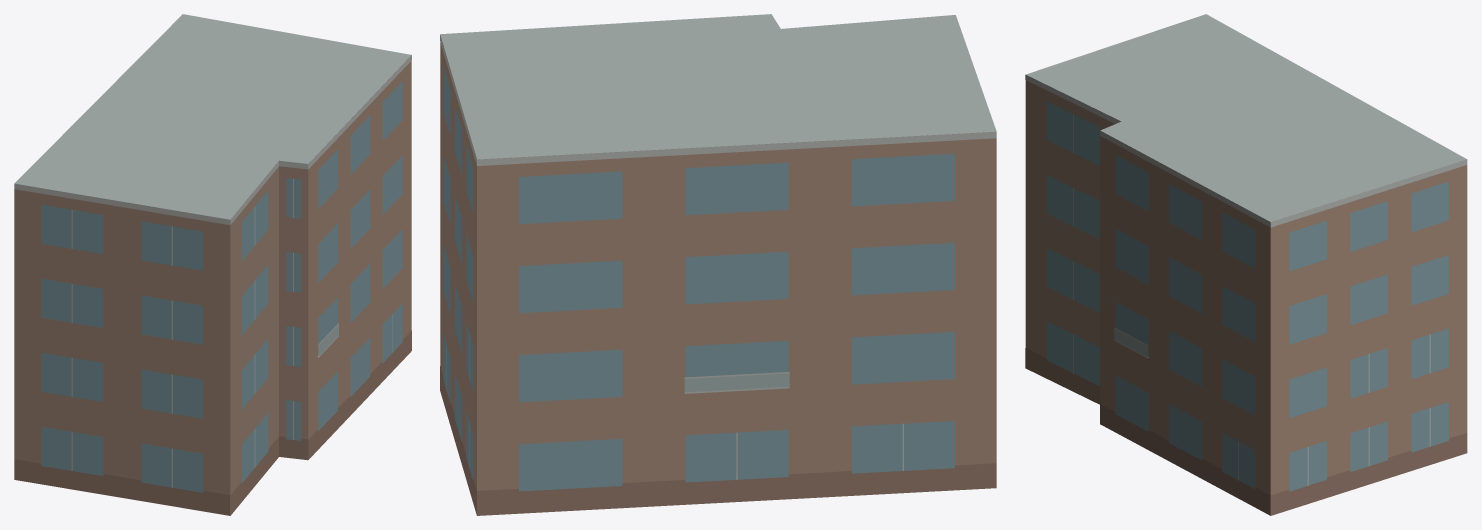
The model's file is survey-upis-33015224.glb.
3 views of the same model, side by side, from view 1: azimuth 30°, elevation 25°; view 2: azimuth 150°, elevation 25°; view 3: azimuth 270°, elevation 25° (orthographic). The views are drawn at different scales.
Parts seen in each view (by area): view 1: survey-upis-33015224.tmp; view 2: survey-upis-33015224.tmp; view 3: survey-upis-33015224.tmp.
Part boxes in pixels (x1,y1,x2,y2): survey-upis-33015224.tmp: [14, 14, 411, 515]; survey-upis-33015224.tmp: [440, 14, 996, 515]; survey-upis-33015224.tmp: [1025, 14, 1467, 515].
Size of the model in its own units: 20.07 by 13.2 by 18.
